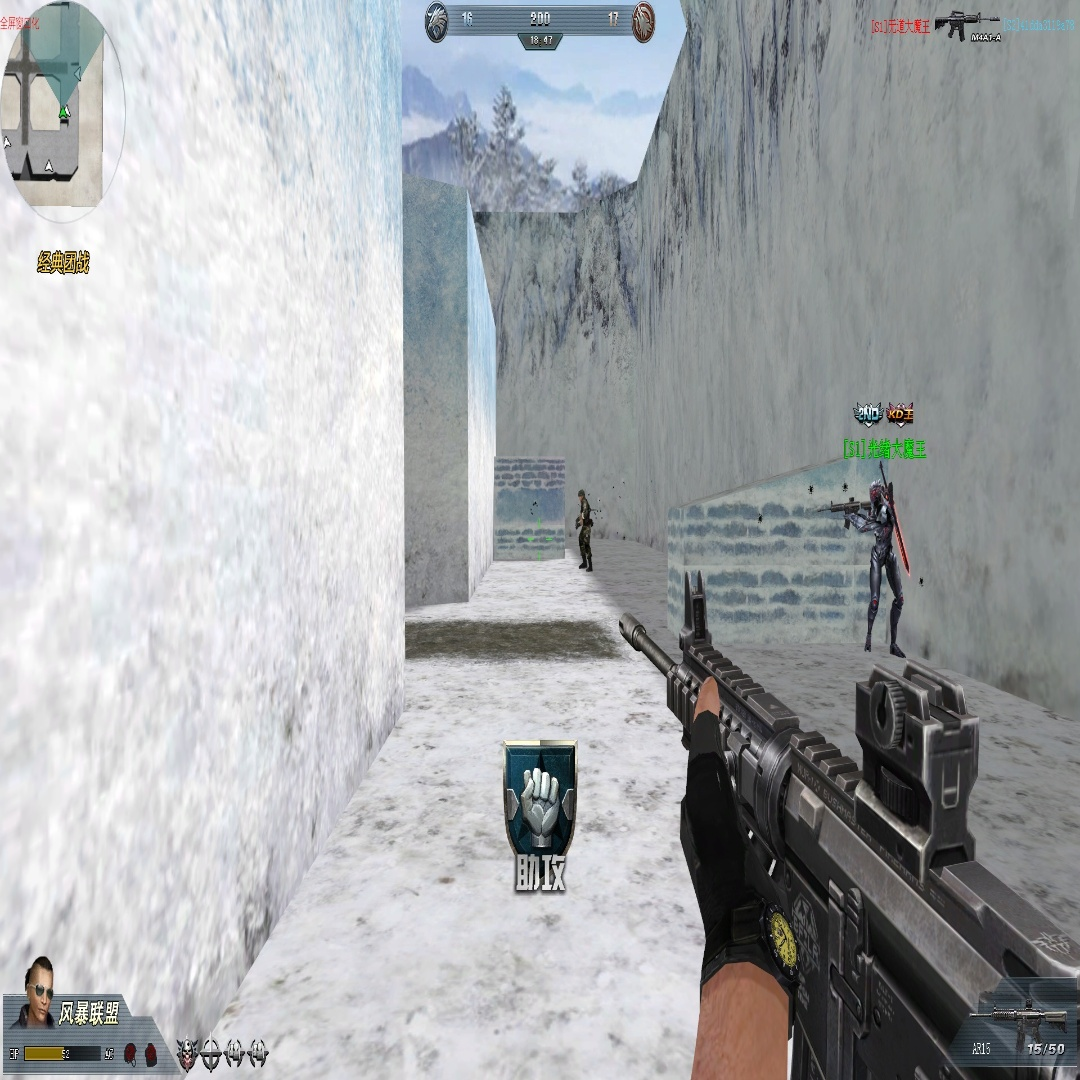t: (862, 477, 908, 657)
